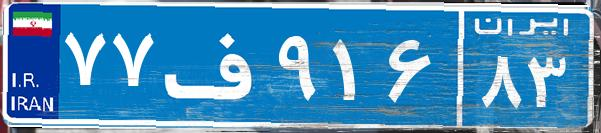1: (330, 28, 385, 110)
3: (525, 38, 570, 115)
6: (385, 28, 445, 110)
7: (57, 26, 110, 107), (110, 28, 158, 105)
8: (475, 38, 525, 113)
9: (273, 28, 330, 110)
ف: (158, 15, 273, 115)
